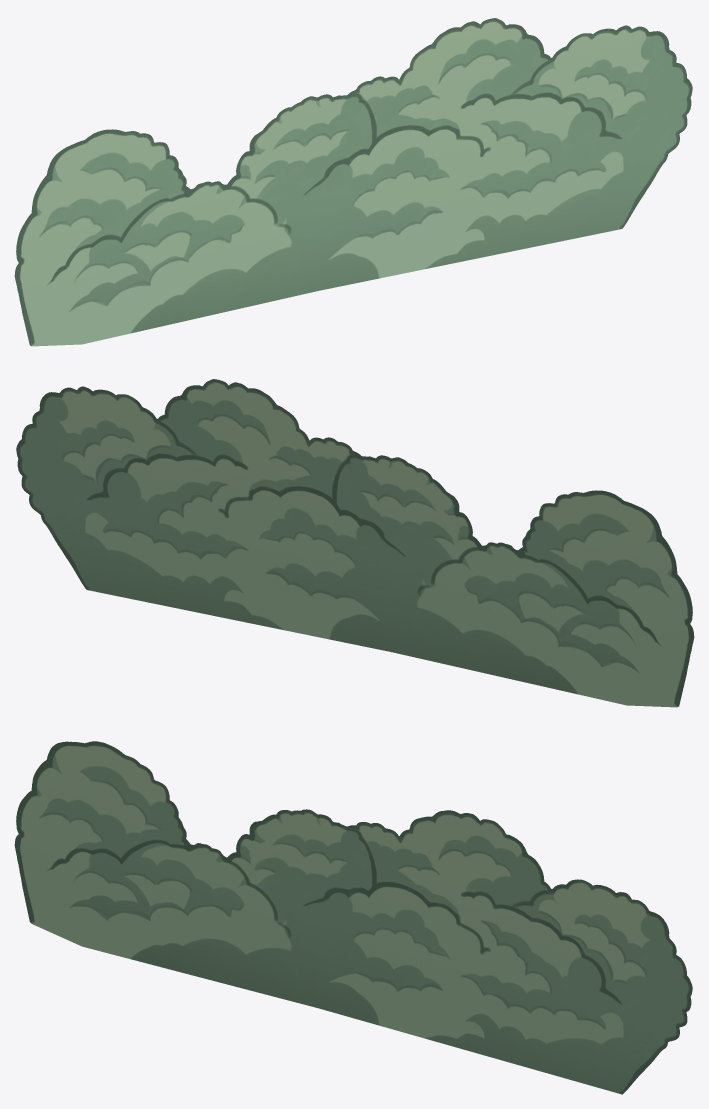
The model's file is forest.fbx.
3 views of the same model, one above another, from view 1: azimuth 30°, elevation 25°; view 2: azimuth 150°, elevation 25°; view 3: azimuth 330°, elevation 25° (orthographic).
Visible parts, largest first — view 1: polySurface1; view 2: polySurface1; view 3: polySurface1.
Boxes of the visible parts, x1,y1,x2,y2 form: polySurface1: (14,18,692,346); polySurface1: (16,379,694,707); polySurface1: (14,741,692,1094).
Bounding box in the file's own units: 9.82 × 3.45 × 0.
1 material, 1 textured.
